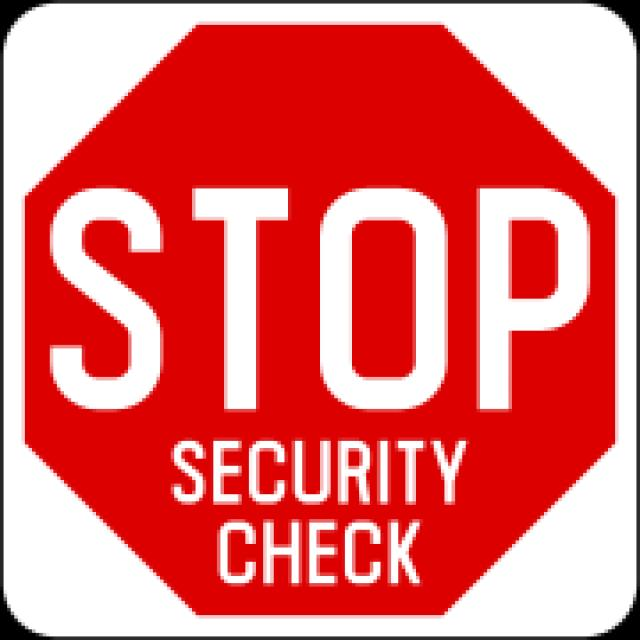Traffic sign: (39, 59, 617, 615)
